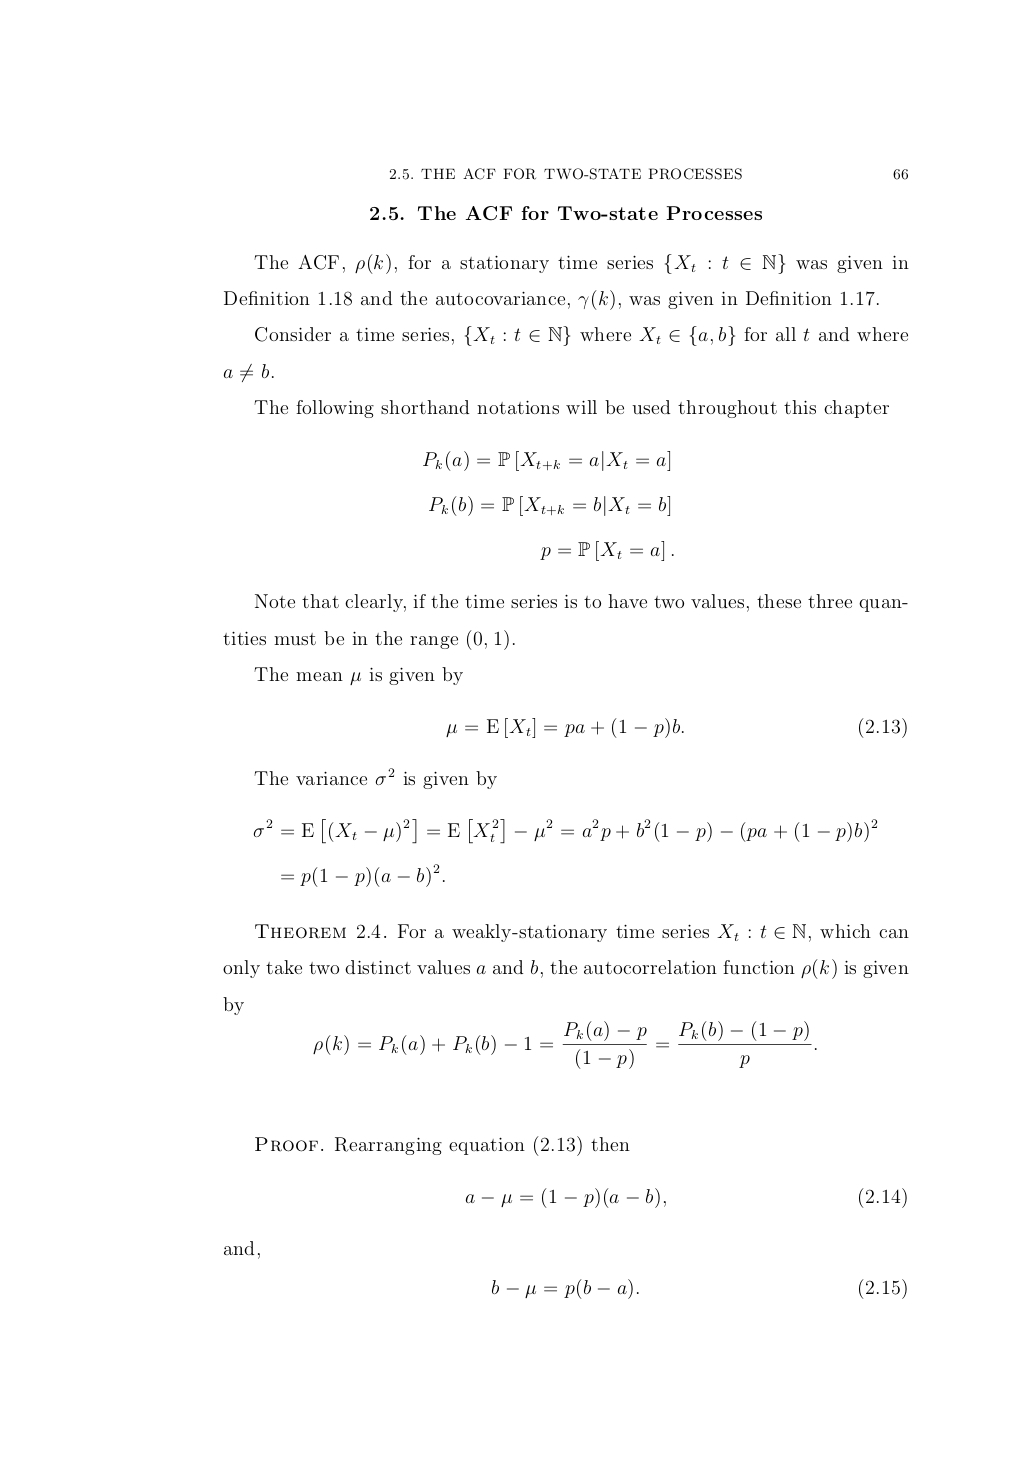formula: (314, 1020, 816, 1069), (253, 818, 877, 844), (446, 717, 906, 738), (465, 1187, 906, 1208), (492, 1278, 906, 1299), (423, 450, 669, 471), (428, 495, 669, 516), (281, 863, 444, 887), (540, 540, 673, 561), (223, 363, 273, 383)
